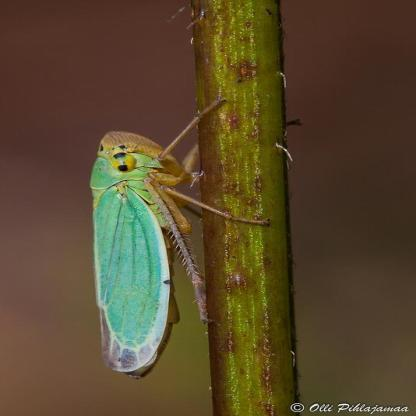Green-Leafhopper: (80, 89, 270, 380)
